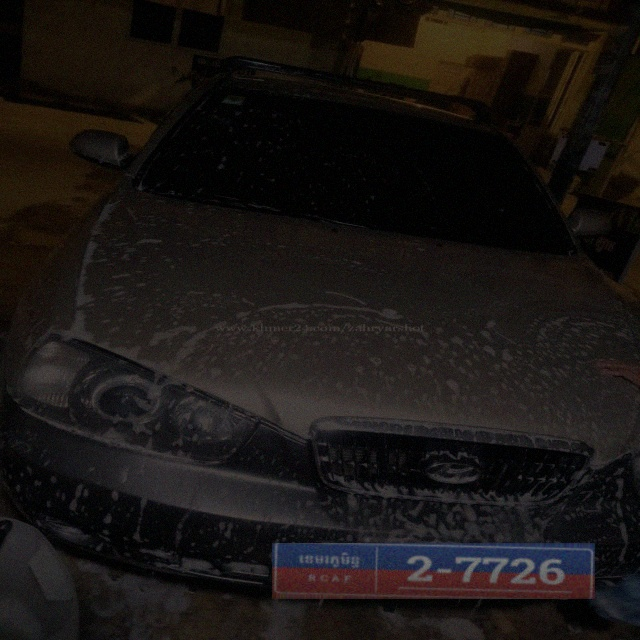Plate Number: (272, 543, 596, 600)
